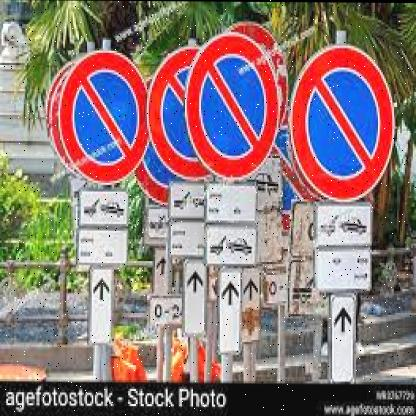No parking: (292, 41, 397, 204), (188, 38, 274, 177), (59, 60, 145, 176)
